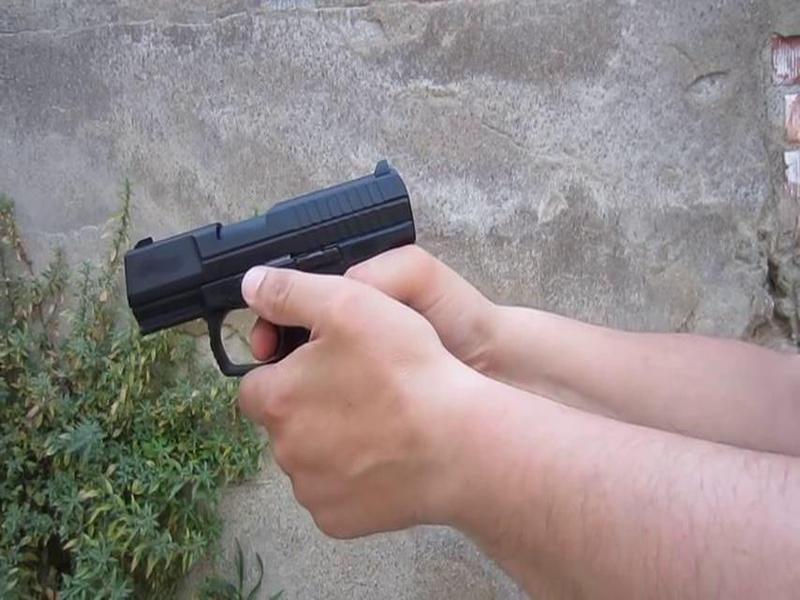Pistola: (112, 152, 417, 384)
